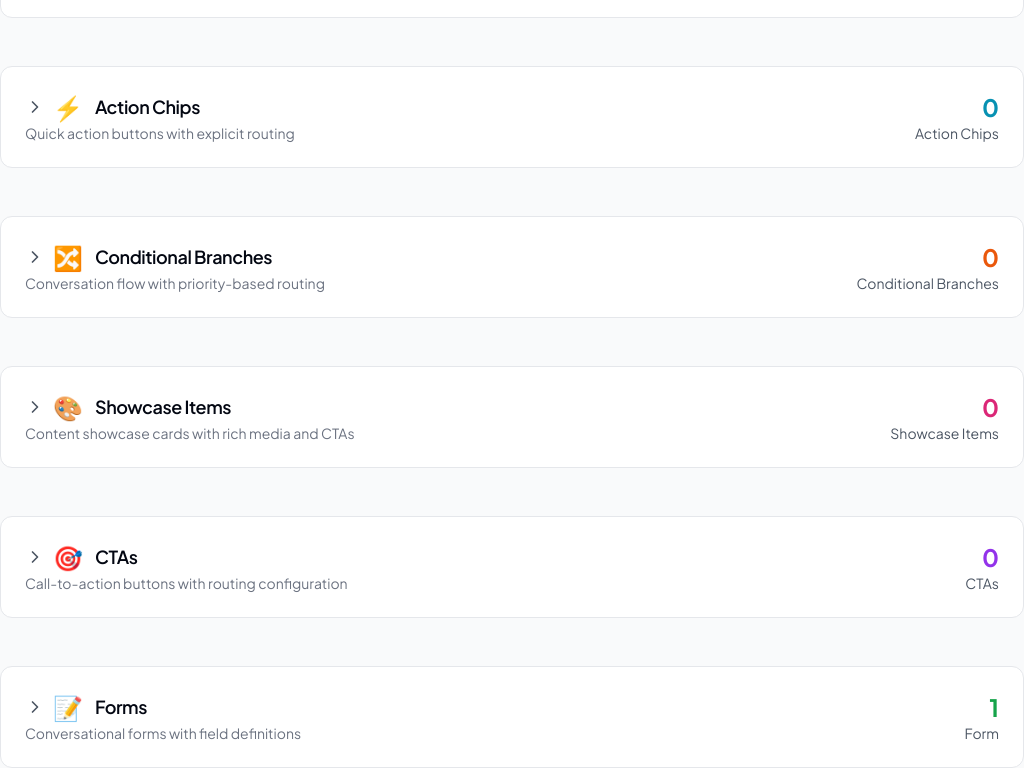
Test: ConversationFlowDiagram › Status Icons › should show multiple status icons on same node
# Expand Forms section
Click the button named "Expand section": coordinates (54, 707) [25,691,83,723]
(page scrolled)
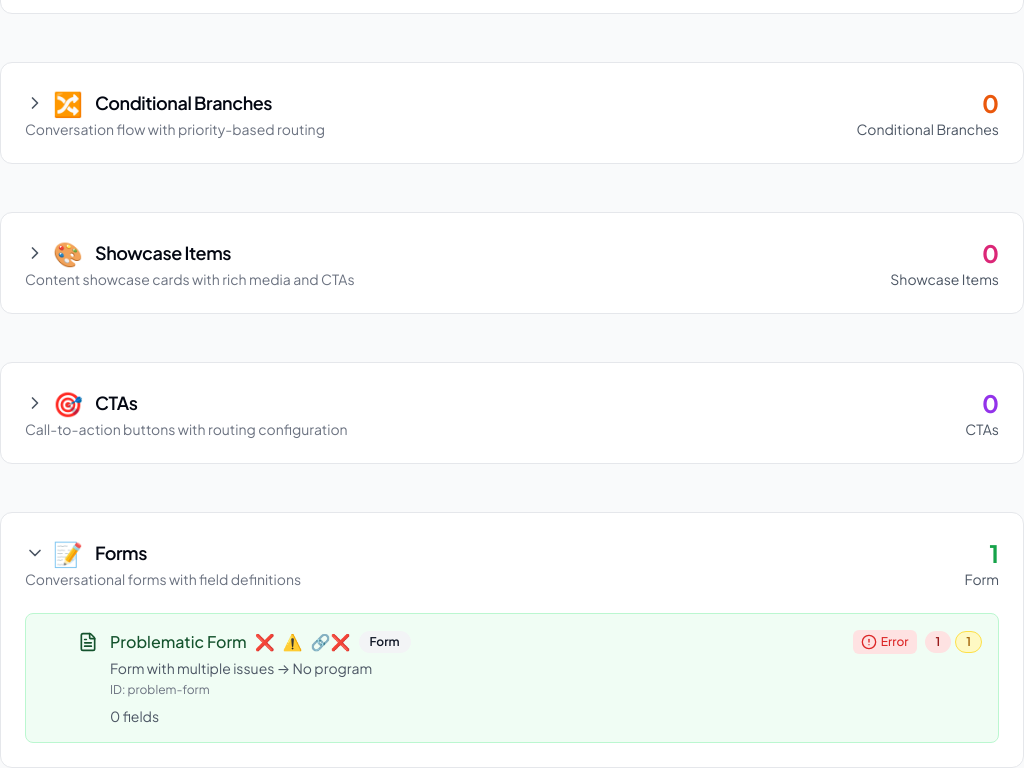
Expected: the text "❌" is shown, [255,630,275,654]
Expected: the text "⚠️" is shown, [283,630,303,654]
Expected: the text "🔗❌" is shown, [311,630,350,654]
